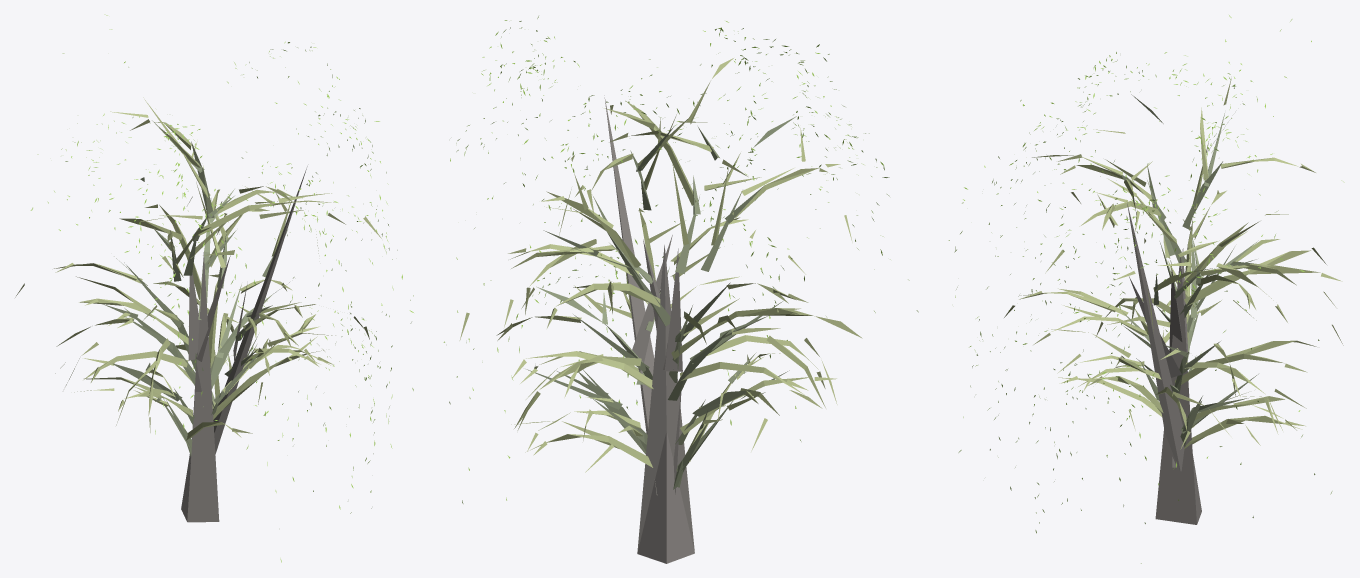
The model's file is tree_weeping_willow.glb.
The picture shows the model from 3 angles, left to right: view 1: azimuth 30°, elevation 25°; view 2: azimuth 150°, elevation 25°; view 3: azimuth 270°, elevation 25°; orthographic projection. The views are drawn at different scales.
Parts seen in each view (by area): view 1: stems_2, trunk, stems_1, leaves; view 2: stems_2, trunk, stems_1, leaves; view 3: stems_2, trunk, stems_1, leaves.
Boxes of the visible parts, bbox=[...] form: stems_2: bbox=[15, 97, 381, 440]; trunk: bbox=[181, 166, 307, 522]; stems_1: bbox=[103, 120, 289, 456]; leaves: bbox=[30, 14, 413, 562]; stems_2: bbox=[459, 58, 862, 472]; trunk: bbox=[604, 95, 694, 563]; stems_1: bbox=[526, 116, 796, 489]; leaves: bbox=[443, 16, 918, 503]; stems_2: bbox=[1004, 78, 1343, 449]; trunk: bbox=[1127, 202, 1201, 524]; stems_1: bbox=[1122, 94, 1258, 447]; leaves: bbox=[948, 15, 1344, 563].
Bounding box in the file's own units: 5.89 × 7.88 × 5.95.
